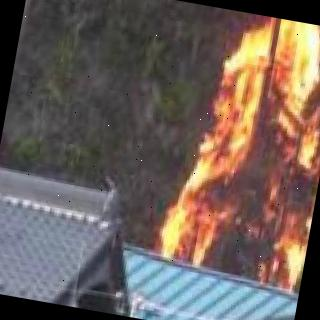fire: (172, 8, 320, 289)
